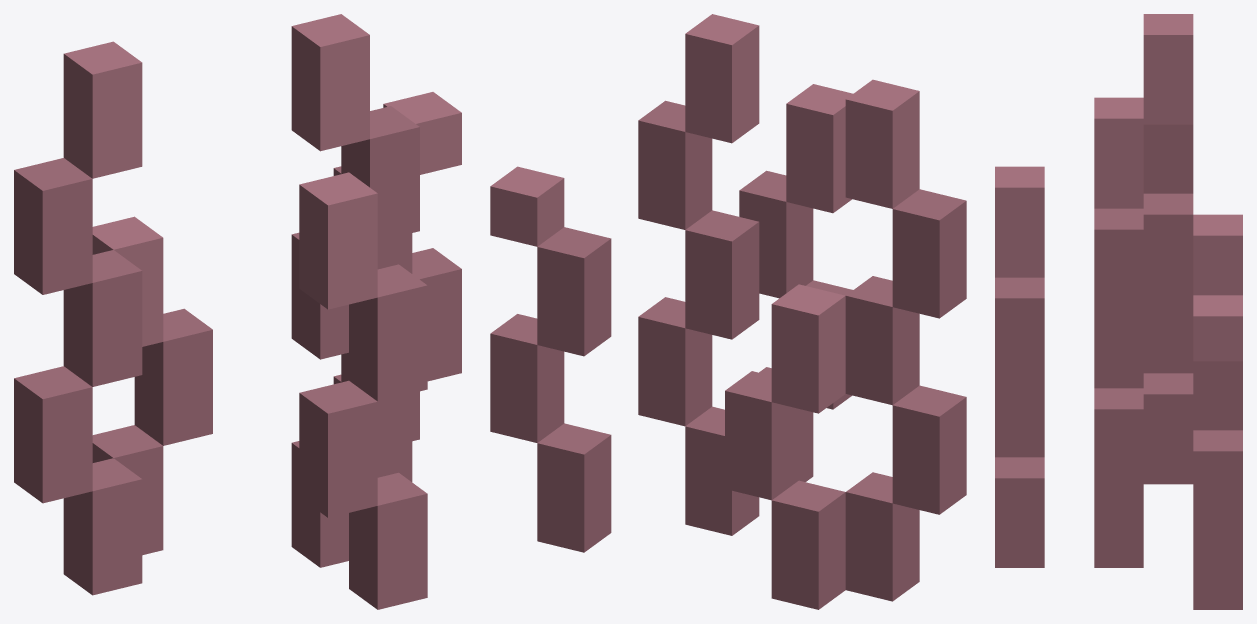
File: alga_roja_01.glb
The picture shows the model from 3 angles, left to right: view 1: azimuth 30°, elevation 25°; view 2: azimuth 150°, elevation 25°; view 3: azimuth 270°, elevation 25°; orthographic projection. The views are drawn at different scales.
Visible parts, largest first — view 1: alga_roja_01; view 2: alga_roja_01; view 3: alga_roja_01.
Boxes of the visible parts, box(x1,y1,x2,y2) form: alga_roja_01: box(14, 14, 461, 609); alga_roja_01: box(490, 14, 966, 609); alga_roja_01: box(995, 14, 1242, 609).
Bounding box in the file's own units: 0.9 × 1 × 0.5.
